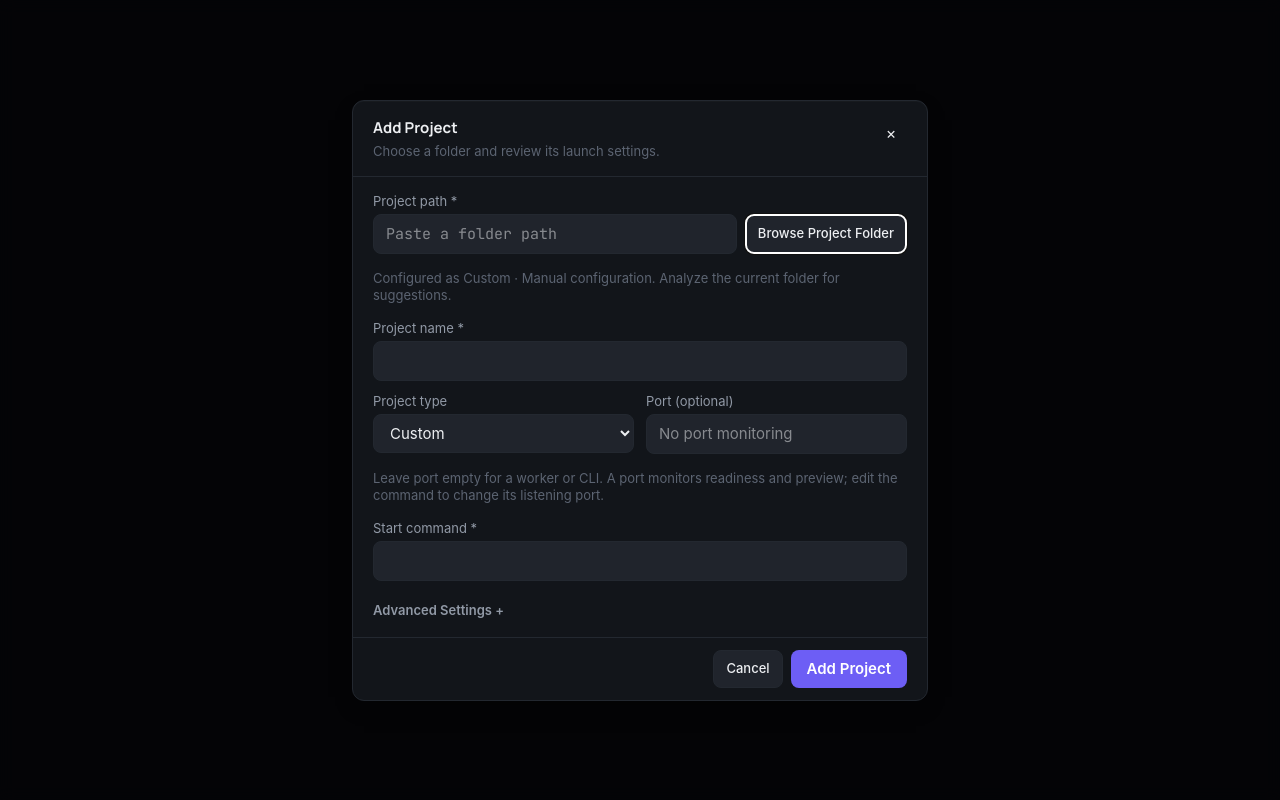
Test: AP03 failed first detection retains path, permits manual config and retry
Later steps or results of the test are not shown.
Click the button "Browse Project Folder": click(826, 234) [745,214,907,254]
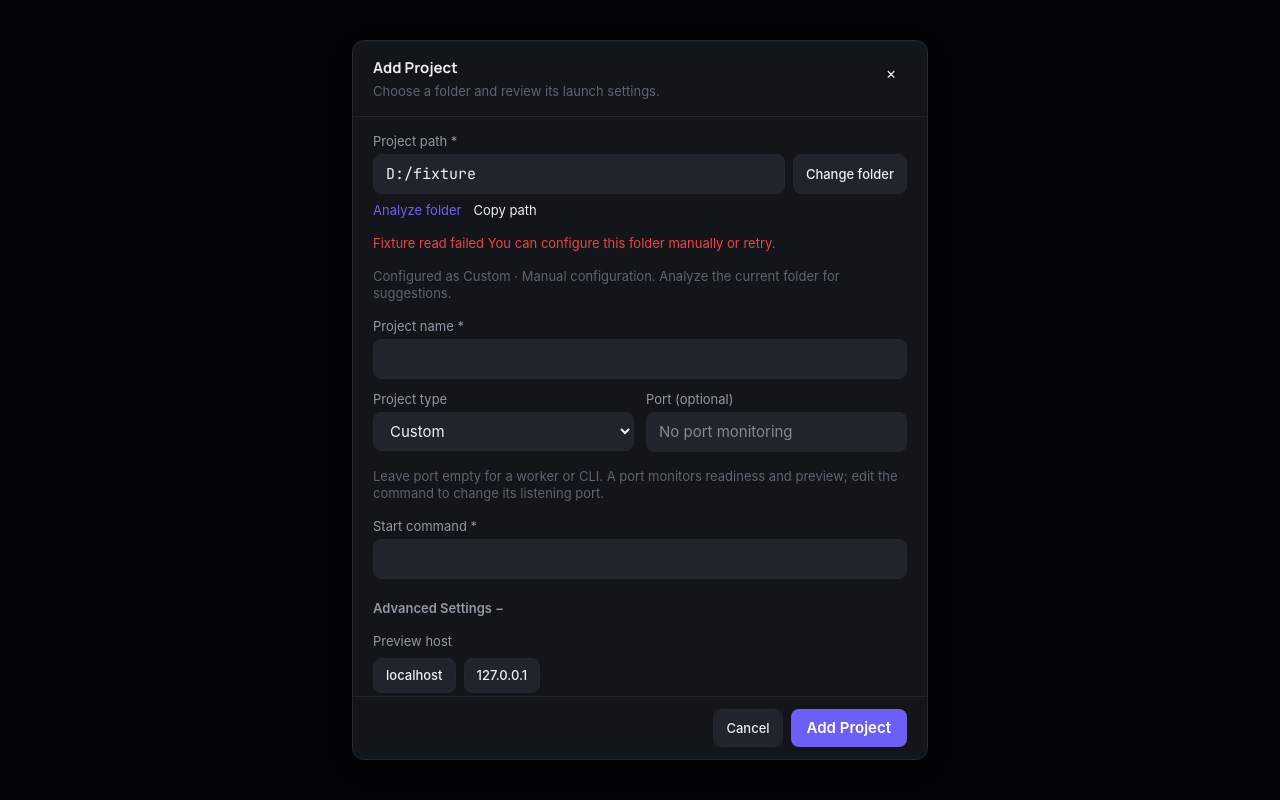
Check: the message "Fixture read failed You can configure this folder manually or retry." is shown, box [373,235,776,251]
Check: the field labelled "Project path *" holds "D:/fixture", box [373,154,785,194]
